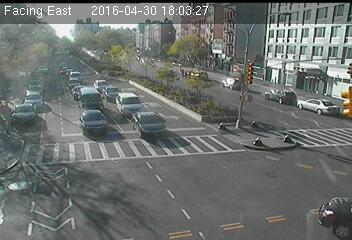neg: (106, 153, 145, 205), (186, 164, 225, 216), (43, 88, 74, 128), (179, 89, 209, 128), (281, 118, 308, 154), (128, 106, 153, 139), (241, 124, 265, 156), (264, 51, 285, 78)
